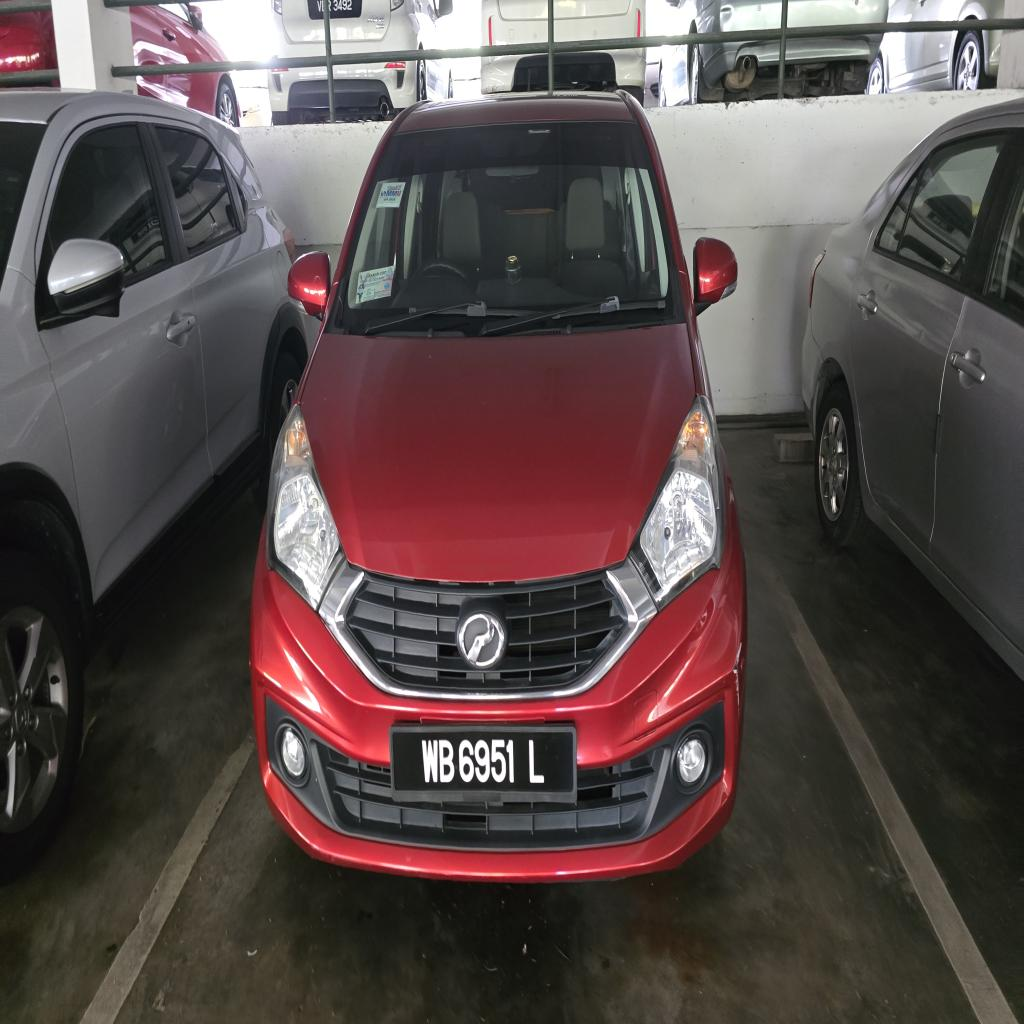car: (251, 92, 746, 880)
car plate: (391, 725, 576, 802)
